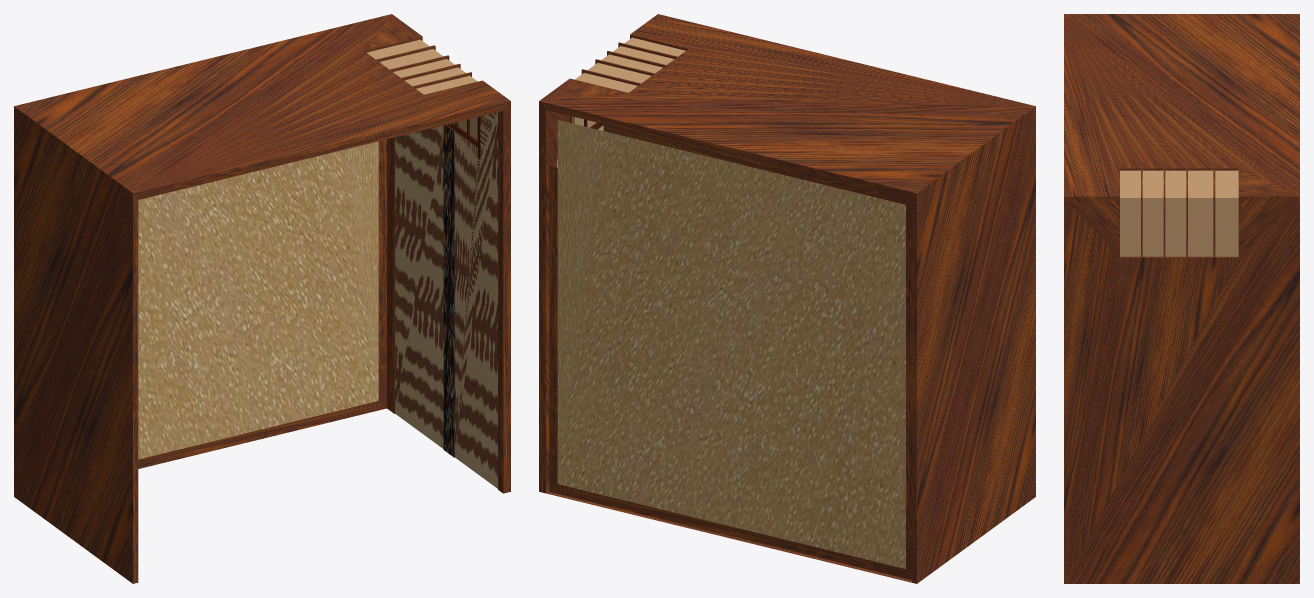
The model's file is room02_edited.obj.
3 renders of one model, left to right at view 1: azimuth 30°, elevation 25°; view 2: azimuth 150°, elevation 25°; view 3: azimuth 270°, elevation 25°, orthographic.
Parts seen in each view (by area): view 1: room02; view 2: room02; view 3: room02.
Part boxes in pixels (x1,y1,x2,y2): room02: (14,14,510,583); room02: (539,14,1035,583); room02: (1064,14,1299,583).
Size of the model in its own units: 248 by 245 by 135.
16 materials, 10 textured.
